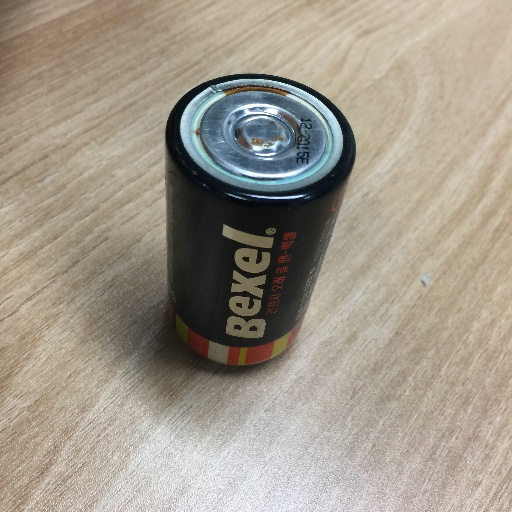Battery_0: (153, 58, 363, 383)
